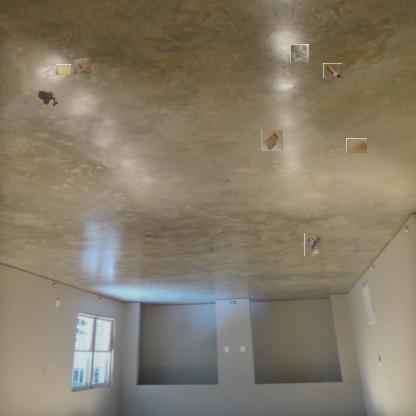dirty: (303, 234, 325, 255), (262, 130, 282, 151), (290, 44, 309, 63), (324, 62, 341, 79), (74, 58, 90, 74), (57, 63, 70, 77)
liquid: (37, 89, 59, 107), (346, 138, 367, 153)
